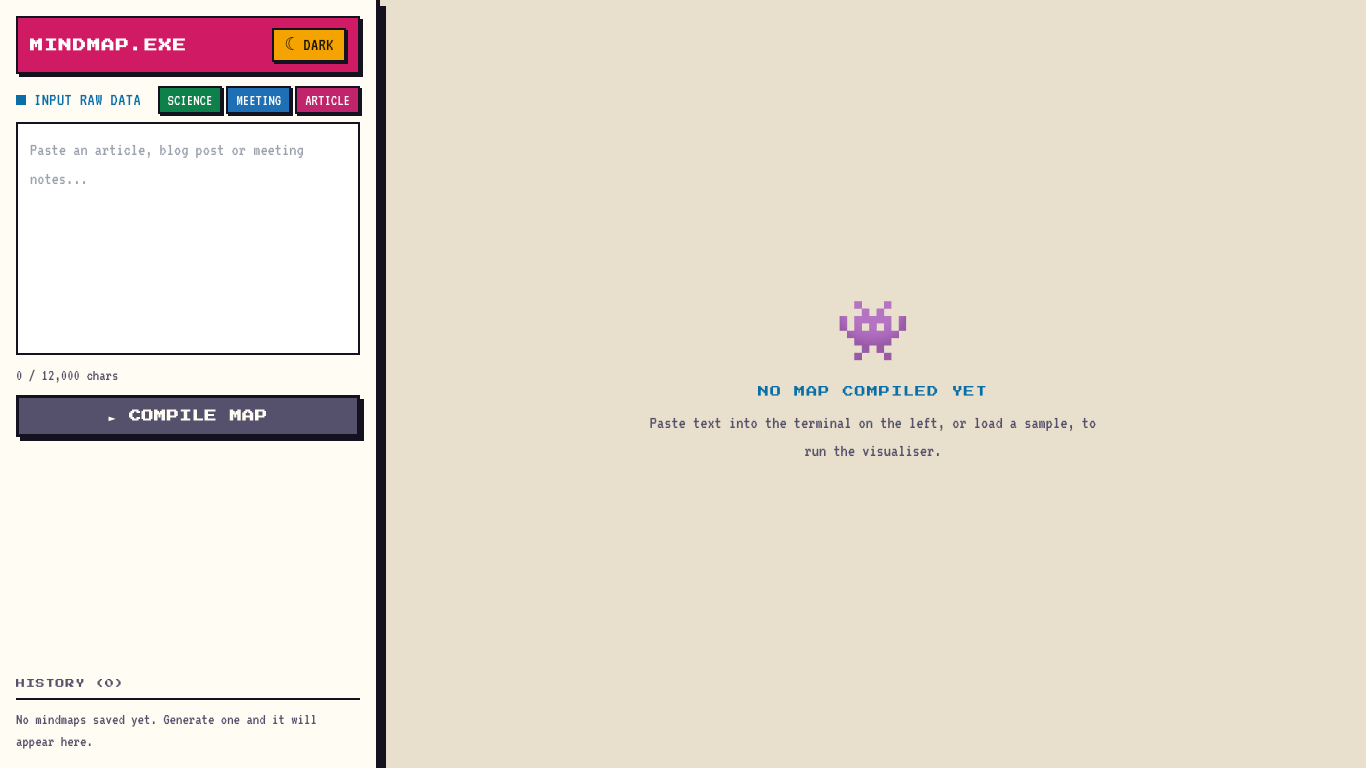
Test: empty and error states › shows a backend error in the UI rather than only the console
Type "Photosynthesis lets plants turn sunlight into sugar using chlorophyll in their leaves." into the text box labelled "Input raw data" at {"x": 188, "y": 238}, box [16,122,360,355]
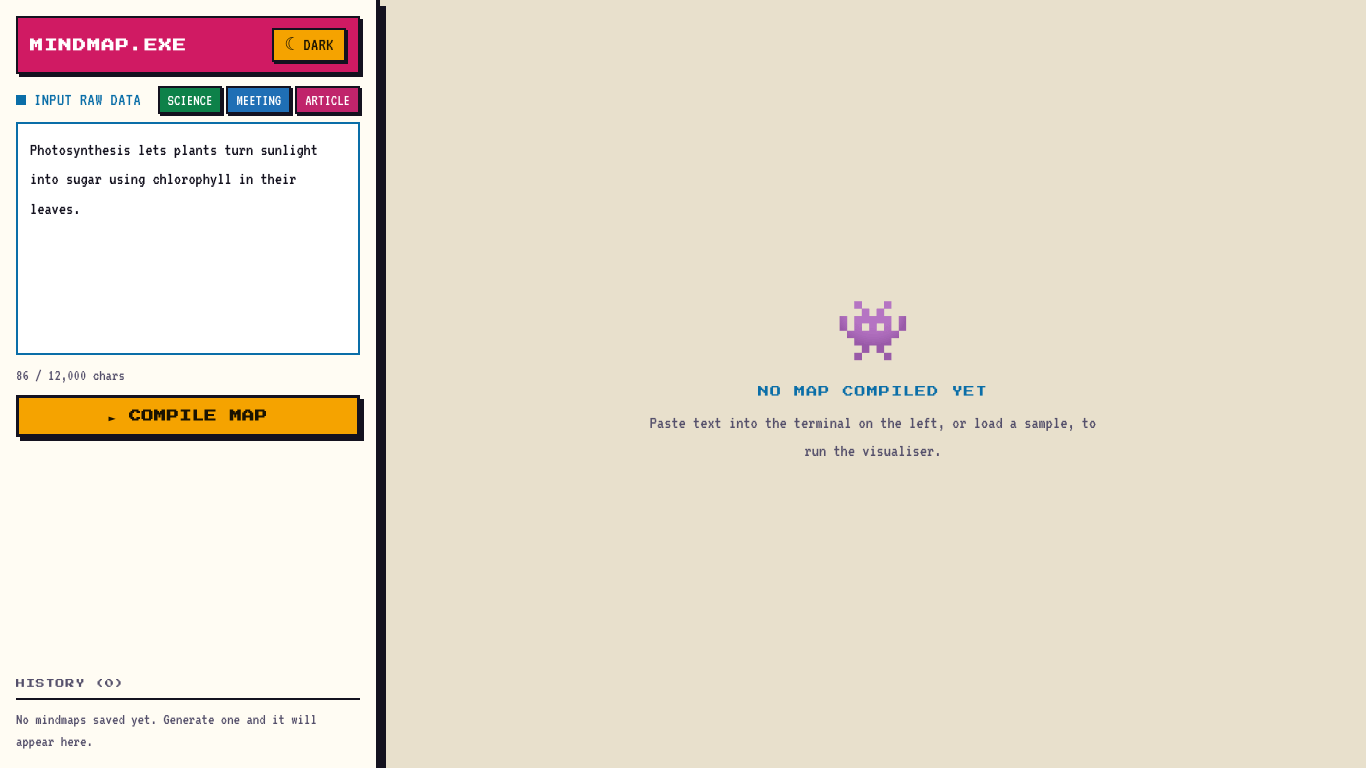
Click the button "► COMPILE MAP" at {"x": 188, "y": 416}, box [16,395,360,437]
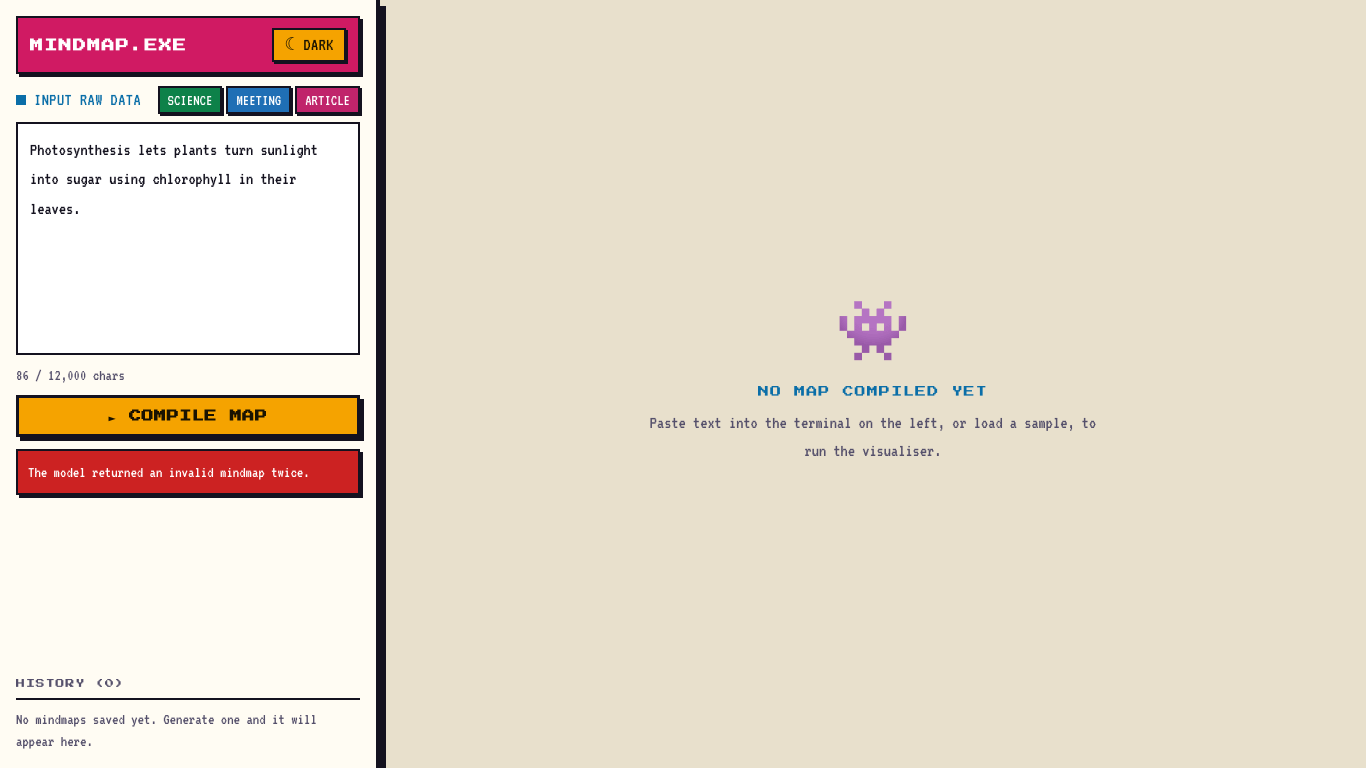
Expected: the text "No map compiled yet" is shown, [758,383,988,401]
Expected: the message shows "invalid mindmap twice", [28,464,310,480]
